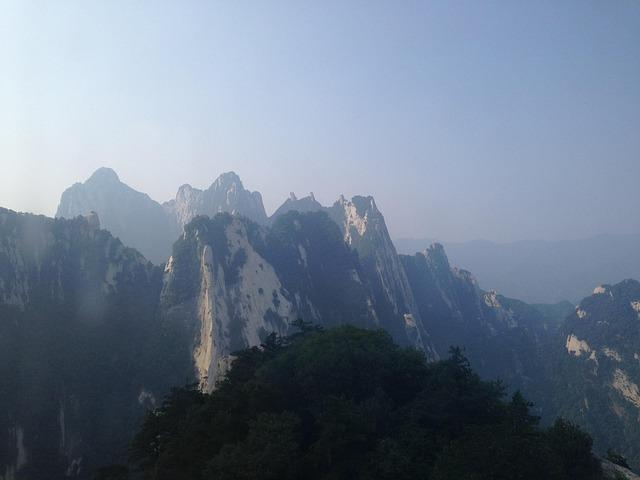Non_Gorille: (45, 85, 589, 480)
